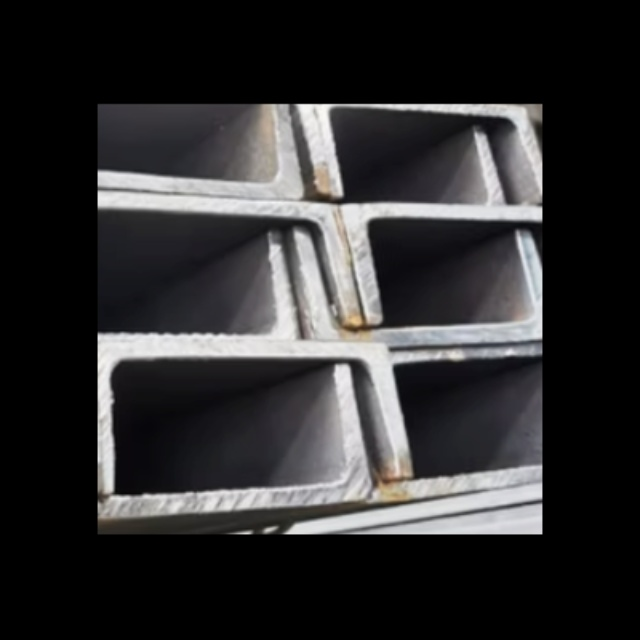Shveller: (98, 336, 403, 484), (98, 366, 357, 511), (98, 191, 360, 321), (341, 357, 542, 501), (296, 231, 542, 338), (345, 208, 542, 320), (318, 104, 542, 196), (98, 231, 292, 336), (98, 104, 326, 192), (98, 104, 304, 197), (394, 340, 542, 461), (288, 118, 494, 200)
